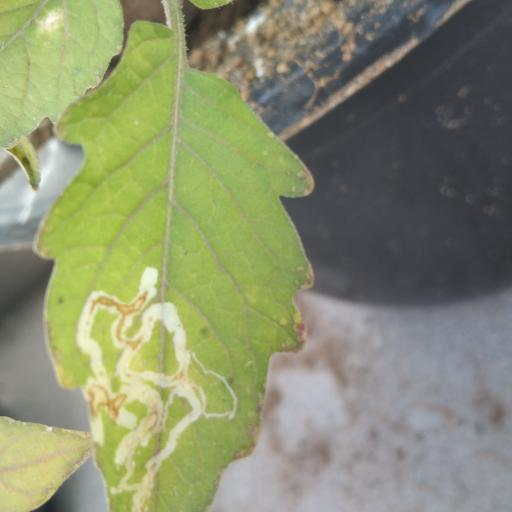Leaf_Miner: (32, 17, 317, 512)
